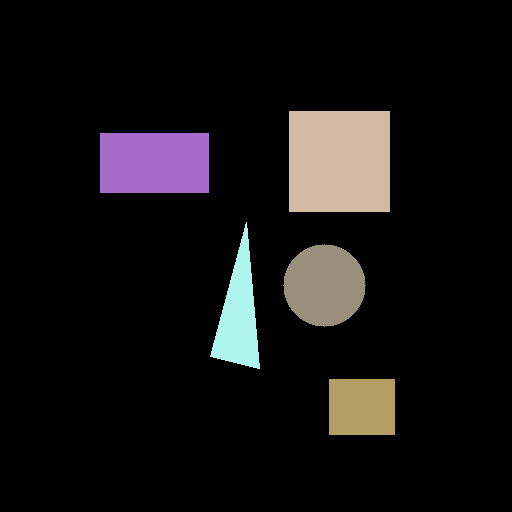circle: (283, 244, 365, 326)
rectangle: (100, 133, 208, 192), (329, 379, 394, 434)
square: (289, 111, 389, 211)
triangle: (210, 222, 259, 368)
